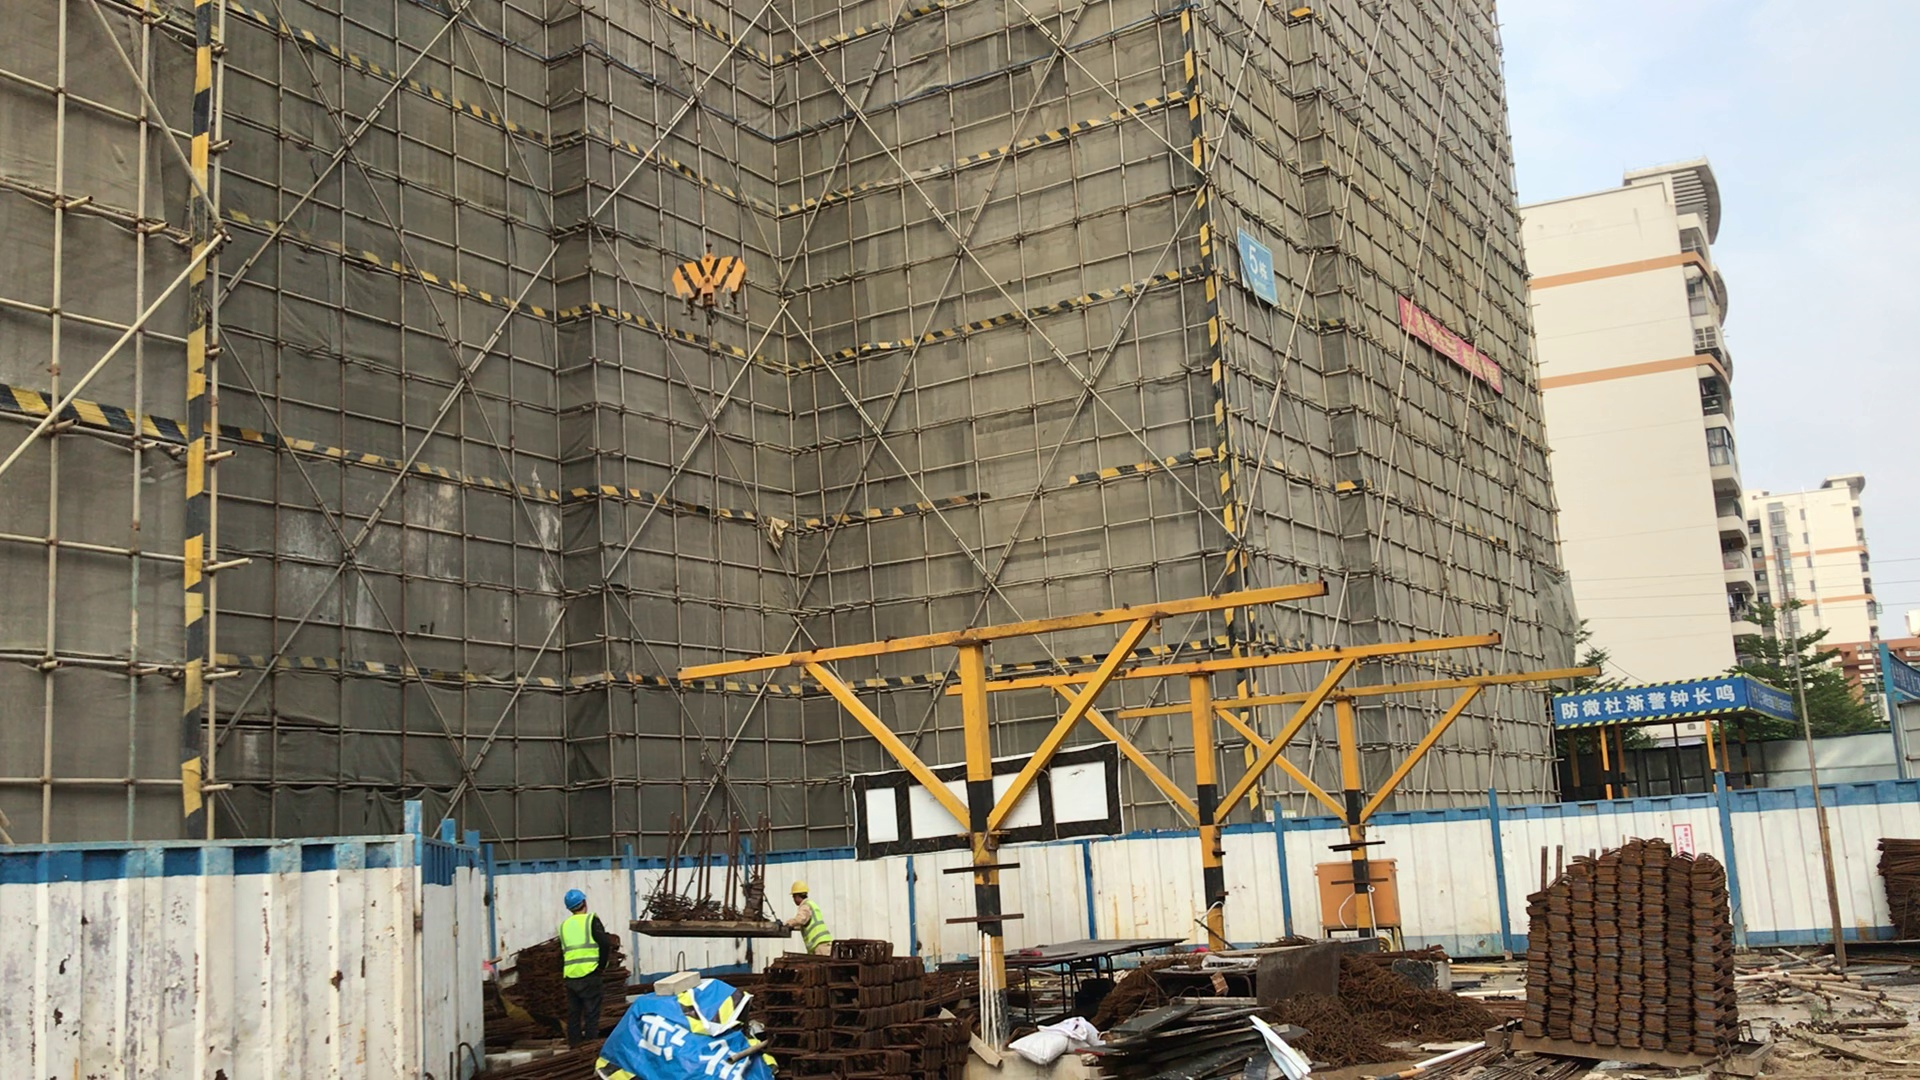helmet: (563, 887, 588, 909), (788, 883, 810, 894)
hook: (672, 254, 749, 328)
person: (551, 887, 608, 1050), (781, 882, 836, 954)
slogan: (1398, 294, 1504, 396), (1558, 685, 1740, 714)
vest: (561, 914, 602, 978), (793, 902, 830, 953)
